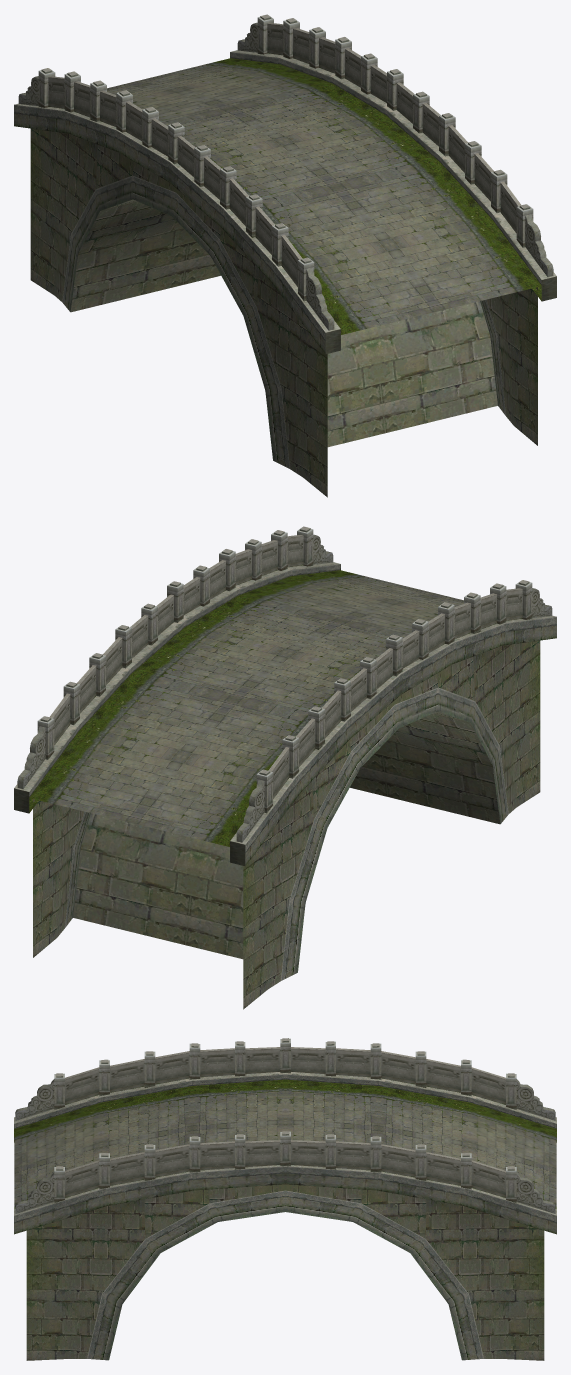
Rendered from yzc_shiqiao_LOD0.FBX.
The picture shows the model from 3 angles, top to bottom: view 1: azimuth 30°, elevation 25°; view 2: azimuth 150°, elevation 25°; view 3: azimuth 270°, elevation 25°; orthographic projection. The views are drawn at different scales.
Visible parts, largest first — view 1: yzc_shiqiao_LOD0; view 2: yzc_shiqiao_LOD0; view 3: yzc_shiqiao_LOD0.
Part boxes in pixels (left/top/right/bottom): yzc_shiqiao_LOD0: left=14, top=14, right=556, bottom=497; yzc_shiqiao_LOD0: left=14, top=526, right=556, bottom=1009; yzc_shiqiao_LOD0: left=14, top=1038, right=556, bottom=1360.
Bounding box in the file's own units: 858 × 938 × 2001.
